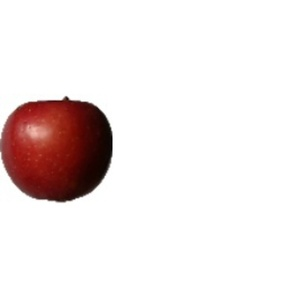maçã braeburn: (1, 92, 115, 209)
